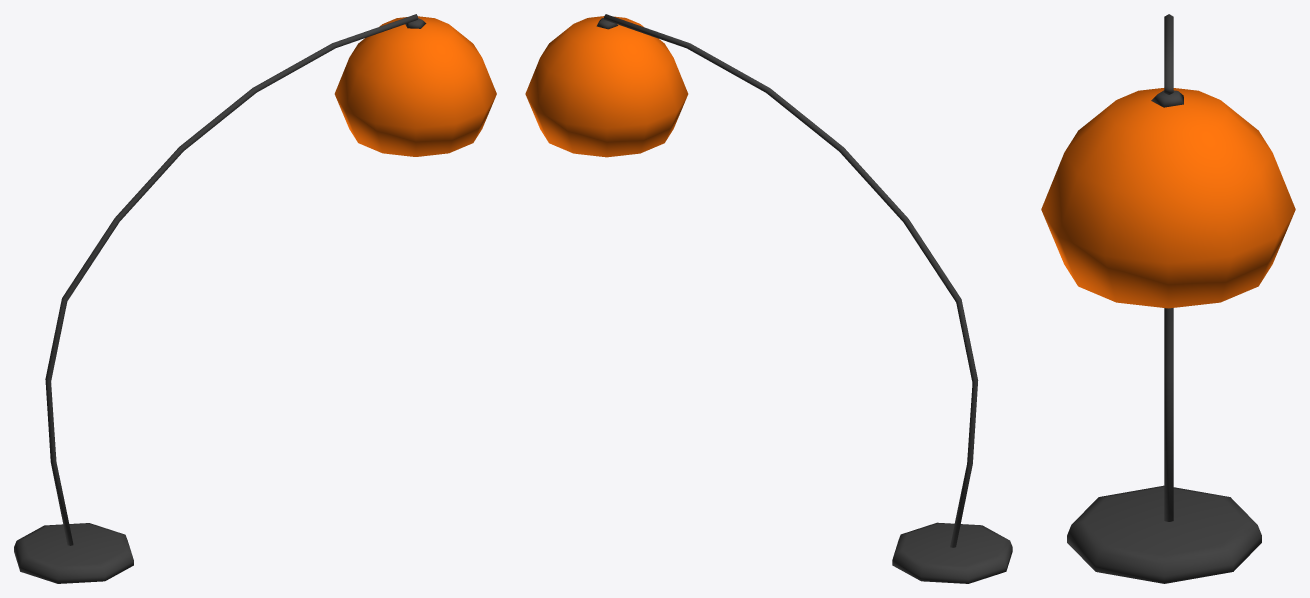
The model's file is Arc_Lamp_B.FBX.
3 renders of one model, left to right at view 1: azimuth 30°, elevation 25°; view 2: azimuth 150°, elevation 25°; view 3: azimuth 270°, elevation 25°, orthographic. The views are drawn at different scales.
Visible parts, largest first — view 1: Arc_Lamp; view 2: Arc_Lamp; view 3: Arc_Lamp.
Boxes of the visible parts, x1=… form: Arc_Lamp: x1=14, y1=14, x2=496, y2=583; Arc_Lamp: x1=525, y1=14, x2=1012, y2=583; Arc_Lamp: x1=1041, y1=14, x2=1295, y2=583.
Size of the model in its own units: 316 by 297 by 95.22.
